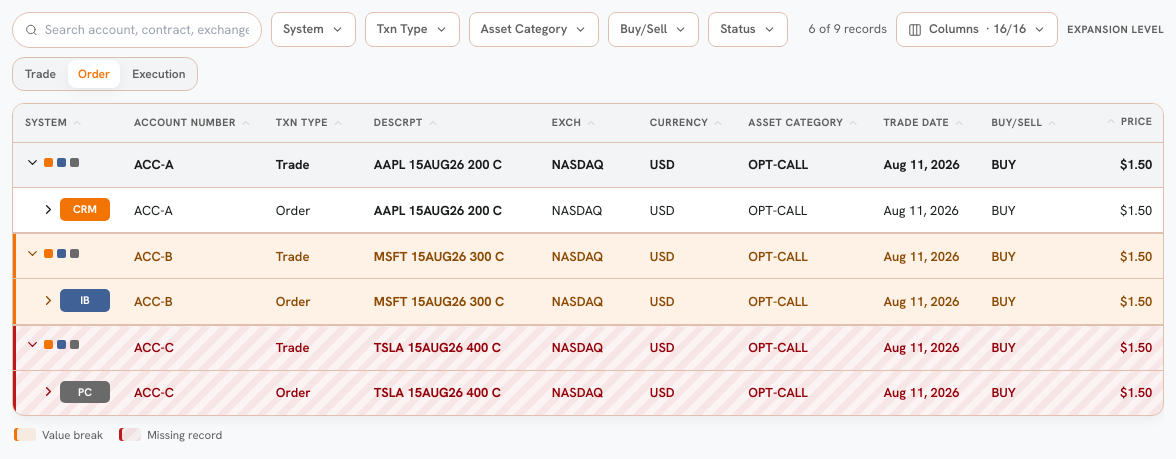
it: ReconGrid — System filter keeps ancestor trade rows › selecting a System value keeps the matching trade's ancestor row, not just its descendant
Click the button "System" at (313, 30), box top-left (271, 12), bottom-right (356, 47)
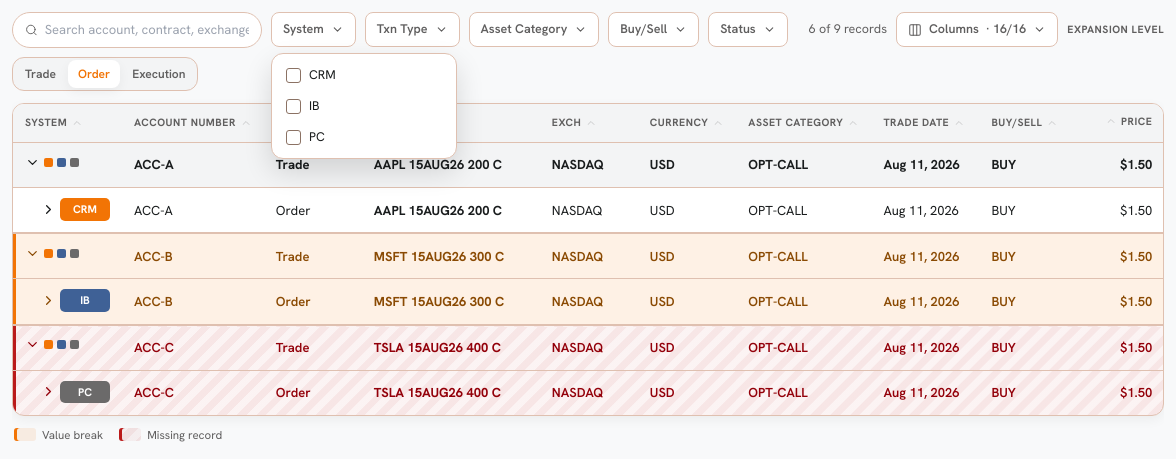
Click the button "IB" at (364, 106), box top-left (278, 91), bottom-right (450, 122)
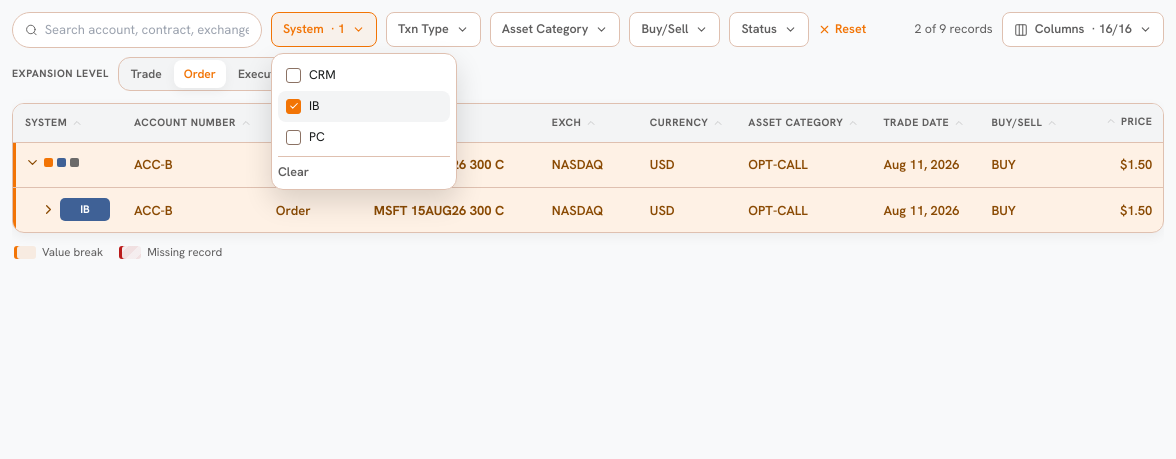
Expected: the text "MSFT 15AUG26 300 C" in the row of "Break" is shown, top-left (374, 156), bottom-right (504, 173)
Expected: the text "AAPL 15AUG26 200 C" is not shown
